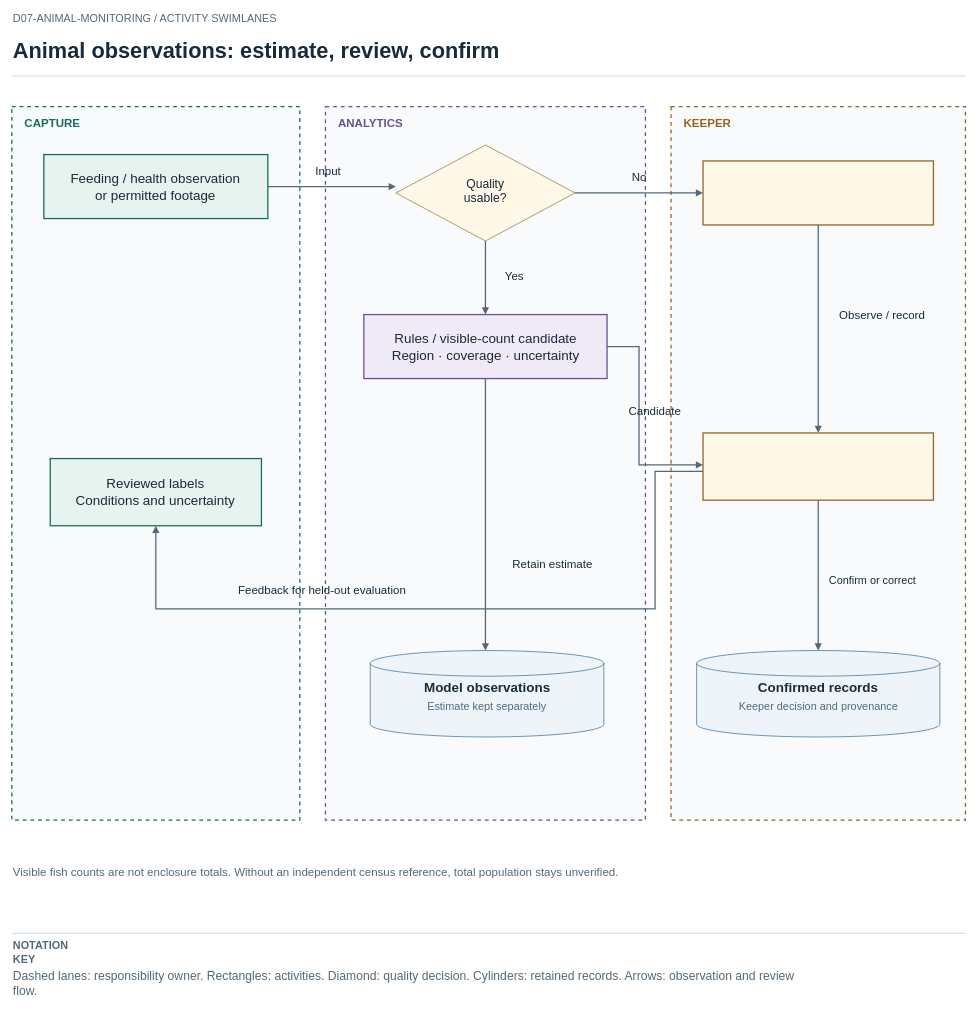
Image size: 977x1011. Some labels were removed from this diagram. The shapes that lost their labels are listed below. From the top down, each one's centre as x and y in pixels, then its label:
the point at 818,192: Manual observation when capture is unusable
the point at 818,466: Review discrepancy Separate visible count from total
